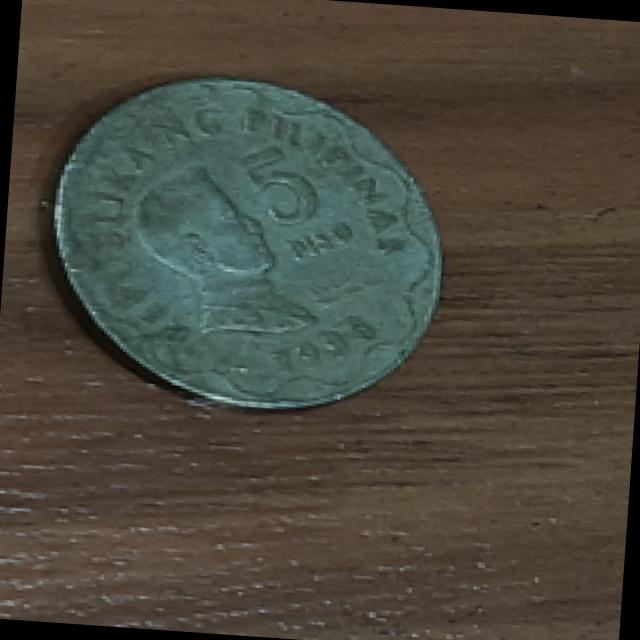5_peso: (55, 79, 439, 406)
